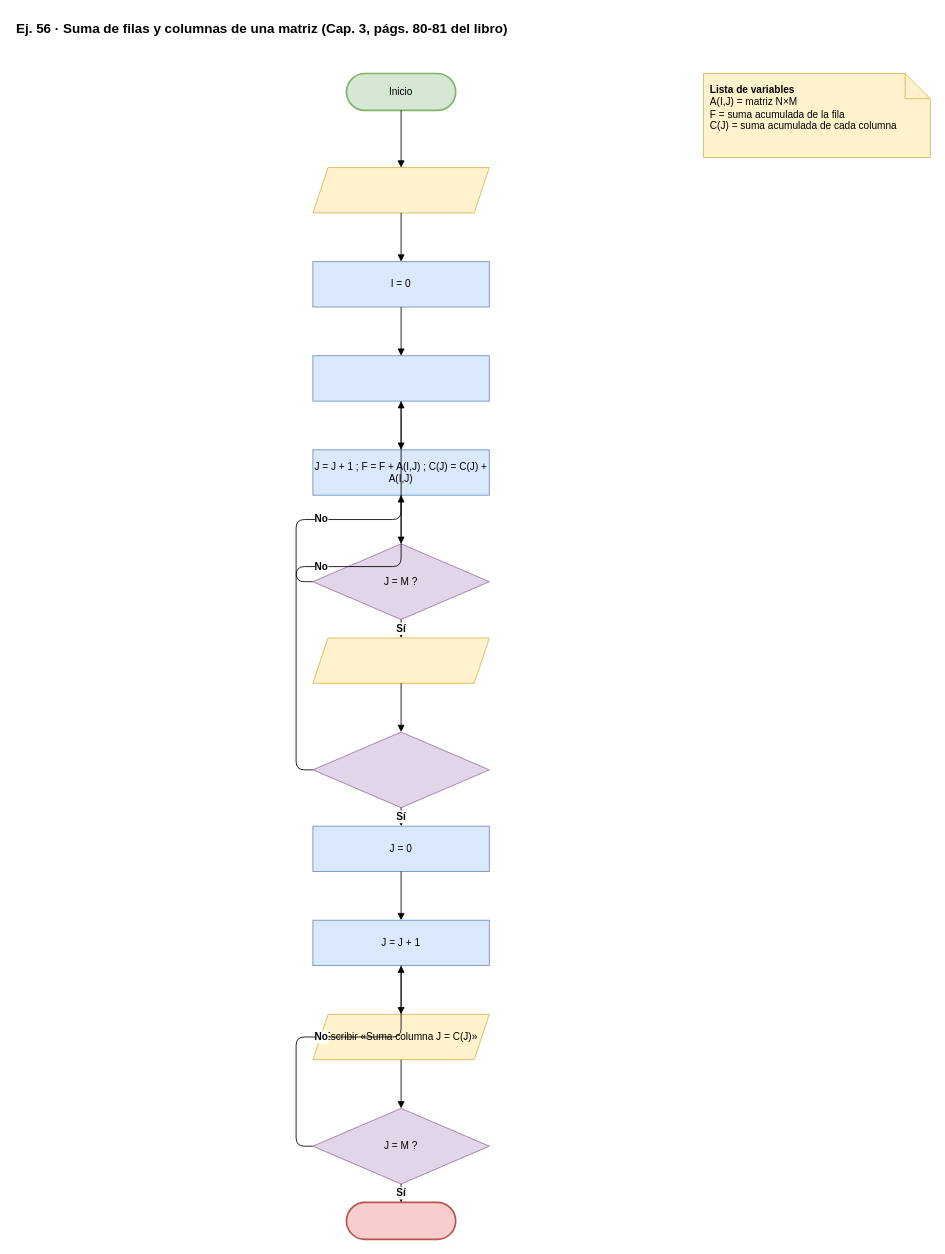
Some shapes in this 945 by 1254 pixel diagram are drawn without their labels. Here are the shapes that lost their labels. From the top down, the box of each, then its label:
(312, 167, 489, 213): Leer N, M y A(I,J) ; C(1..M) = 0
(312, 355, 489, 401): I = I + 1 ; F = 0 ; J = 0
(312, 637, 489, 683): Escribir «Suma fila I = F»
(312, 731, 489, 808): I = N ?
(345, 1201, 456, 1240): Fin
